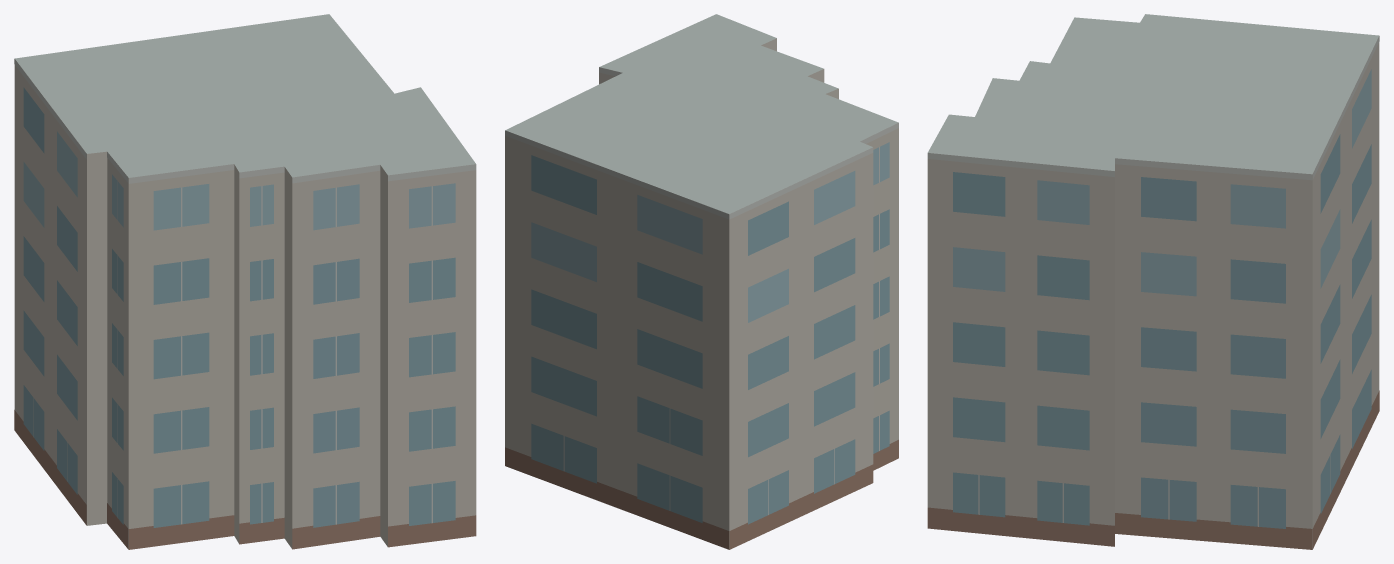
The model's file is survey-upis-32749861.glb.
The picture shows the model from 3 angles, left to right: view 1: azimuth 30°, elevation 25°; view 2: azimuth 150°, elevation 25°; view 3: azimuth 270°, elevation 25°; orthographic projection. The views are drawn at different scales.
Parts seen in each view (by area): view 1: survey-upis-32749861.tmp; view 2: survey-upis-32749861.tmp; view 3: survey-upis-32749861.tmp.
Boxes of the visible parts, x1,y1,x2,y2 form: survey-upis-32749861.tmp: (14,14,476,549); survey-upis-32749861.tmp: (505,14,898,549); survey-upis-32749861.tmp: (927,14,1379,549).
Size of the model in its own units: 13.97 by 15.25 by 16.64.
